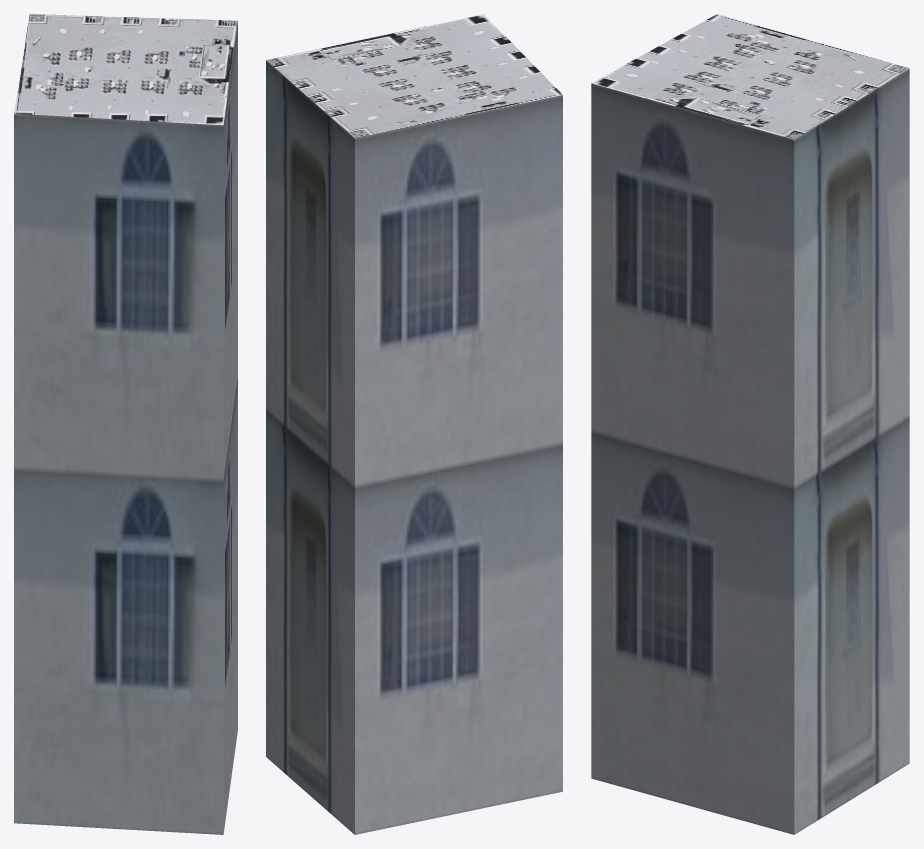
File: ResTex__2180.fbx
3 views of the same model, side by side, from view 1: azimuth 30°, elevation 25°; view 2: azimuth 150°, elevation 25°; view 3: azimuth 270°, elevation 25° (orthographic). The views are drawn at different scales.
Visible parts, largest first — view 1: CityEngineMaterial_17_m, CityEngineMaterial_4_m; view 2: CityEngineMaterial_17_m, CityEngineMaterial_4_m; view 3: CityEngineMaterial_17_m, CityEngineMaterial_4_m.
Boxes of the visible parts, x1,y1,x2,y2 form: CityEngineMaterial_17_m: [14, 22, 237, 834]; CityEngineMaterial_4_m: [14, 14, 237, 125]; CityEngineMaterial_17_m: [266, 60, 562, 834]; CityEngineMaterial_4_m: [266, 14, 562, 138]; CityEngineMaterial_17_m: [591, 68, 909, 834]; CityEngineMaterial_4_m: [591, 14, 909, 139].
Size of the model in its own units: 2.33 by 6 by 2.49.
Materials: 2 (2 with a texture image).
